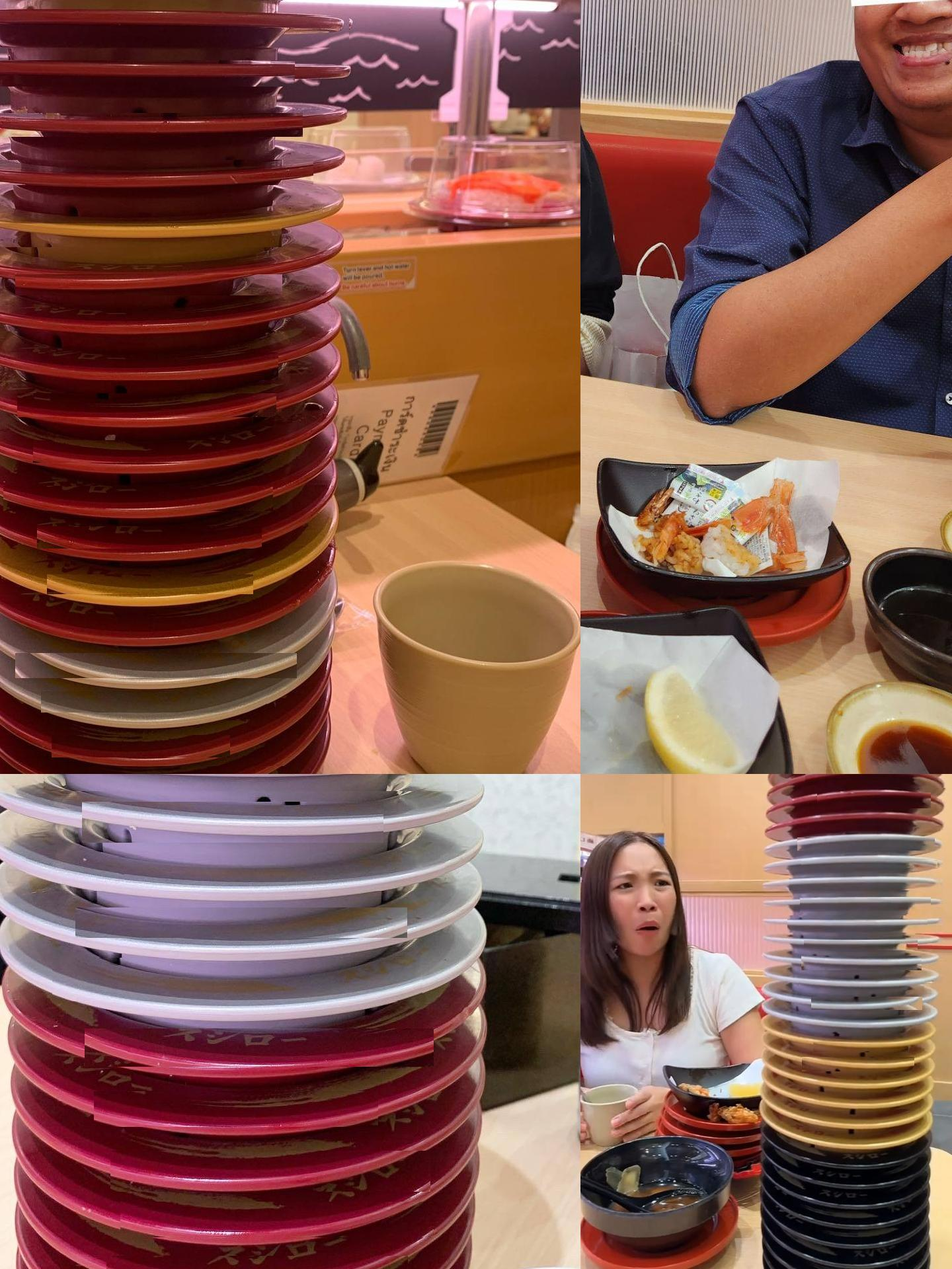Janback: (779, 1205, 922, 1226), (789, 1231, 925, 1252), (790, 1169, 928, 1185), (789, 1190, 915, 1206), (795, 1151, 927, 1165), (796, 1254, 915, 1267)
Jangold: (0, 222, 299, 249), (34, 573, 267, 596), (795, 1094, 923, 1113), (795, 1056, 922, 1073), (795, 1077, 921, 1091), (800, 1131, 913, 1146), (795, 1115, 917, 1128), (808, 1041, 915, 1053)
Janred: (67, 1027, 452, 1069), (105, 1150, 437, 1193), (108, 1200, 447, 1240), (78, 1089, 394, 1130), (0, 15, 355, 48), (0, 58, 321, 89), (0, 303, 337, 331), (0, 350, 294, 382), (0, 159, 326, 186), (0, 112, 321, 139), (1, 608, 277, 639), (0, 392, 294, 420), (0, 272, 307, 297), (0, 485, 280, 512), (13, 438, 279, 465), (19, 524, 280, 551), (37, 733, 245, 760), (102, 1254, 413, 1269), (810, 813, 945, 833), (30, 765, 287, 774), (811, 792, 938, 810), (804, 774, 949, 788)
Janwhite: (59, 798, 408, 847), (49, 957, 426, 1002), (25, 856, 446, 891), (49, 905, 435, 941), (1, 652, 312, 680), (34, 774, 467, 792), (28, 690, 280, 714), (795, 896, 937, 915), (785, 915, 930, 933), (790, 837, 942, 852), (795, 956, 929, 972), (787, 878, 944, 891), (802, 996, 933, 1011), (799, 1016, 903, 1034), (794, 939, 927, 952), (795, 979, 930, 991), (794, 859, 945, 869)
